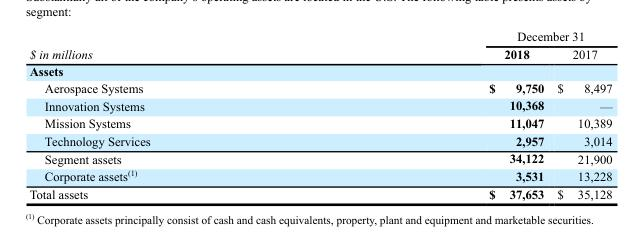table: (28, 28, 611, 200)
table column: (28, 28, 318, 200), (318, 28, 549, 200), (549, 28, 611, 200)
table column header: (28, 28, 611, 62)
table projected row header: (28, 62, 611, 79)
table row: (28, 44, 611, 62), (28, 96, 611, 114), (28, 131, 611, 149), (28, 166, 611, 184), (28, 62, 611, 79), (28, 79, 611, 96), (28, 114, 611, 131), (28, 149, 611, 166), (28, 28, 611, 44), (28, 184, 611, 200)
table spanning cell: (28, 28, 318, 62), (318, 28, 611, 44)
